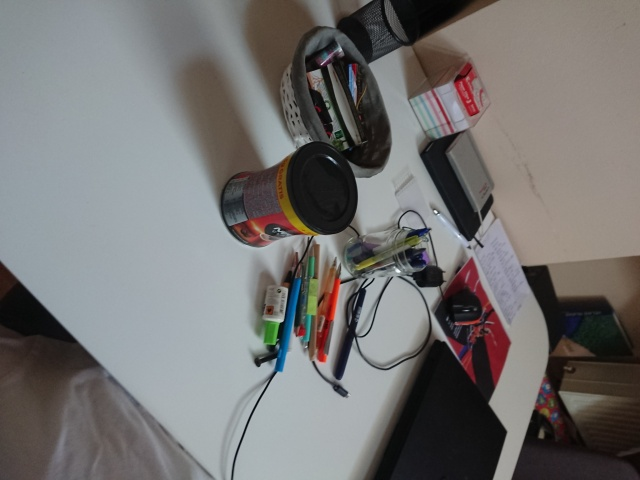Nescafe Classic 225g: (216, 138, 361, 250)
